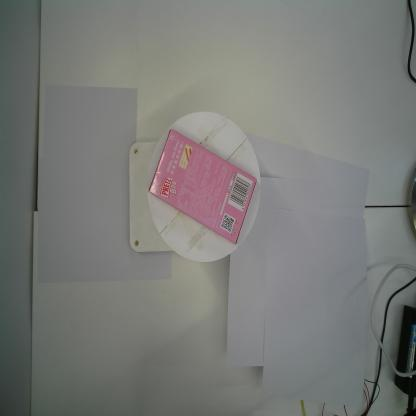Dessert: (147, 127, 258, 244)
